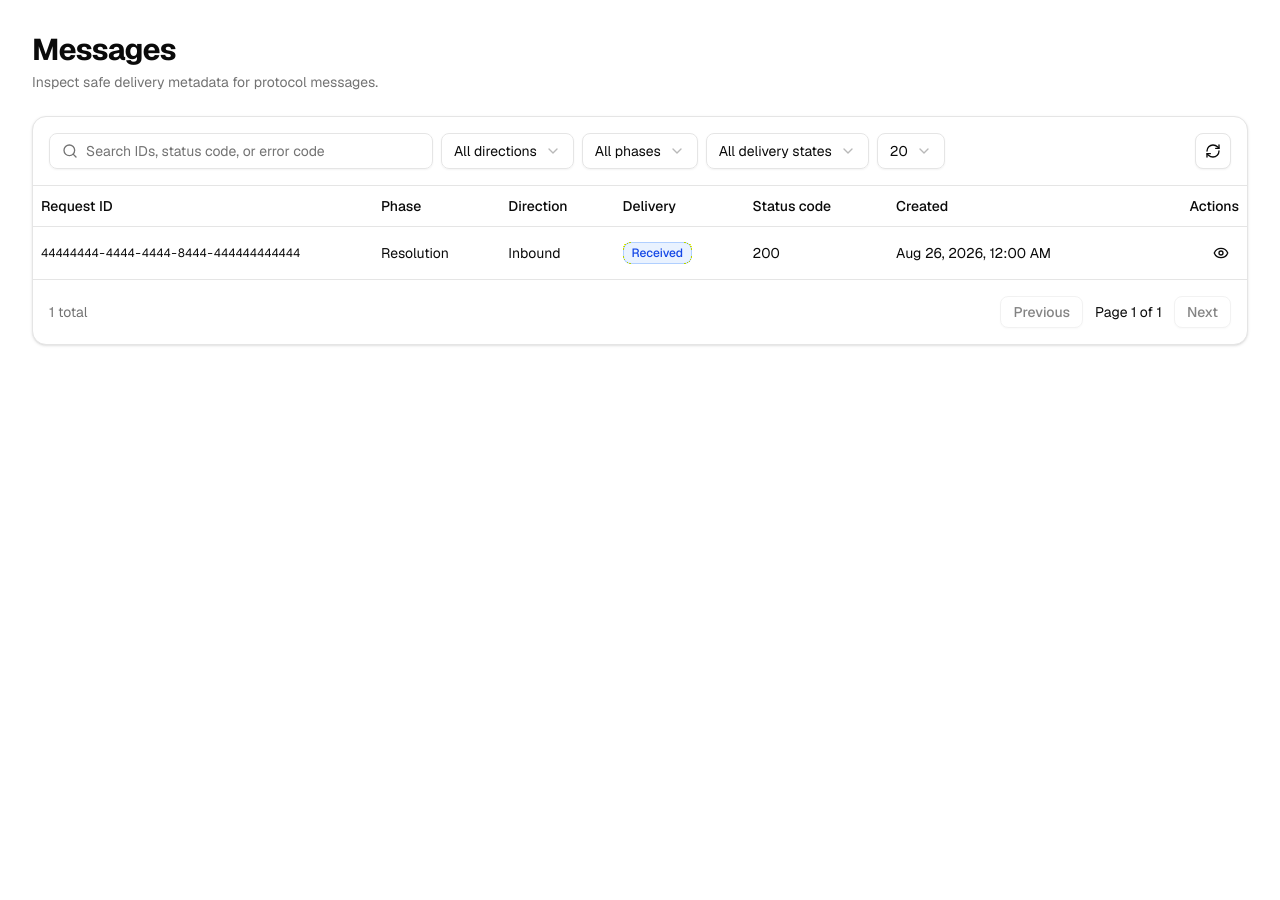
Scenario: renders received inbound messages in list and detail metadata
expect the text "Received" is shown: met, box [622, 242, 692, 264]
Click the button named "View message 22222222-2222-4222-8222-222222222222".
click(1221, 252)  # box [1203, 234, 1239, 270]
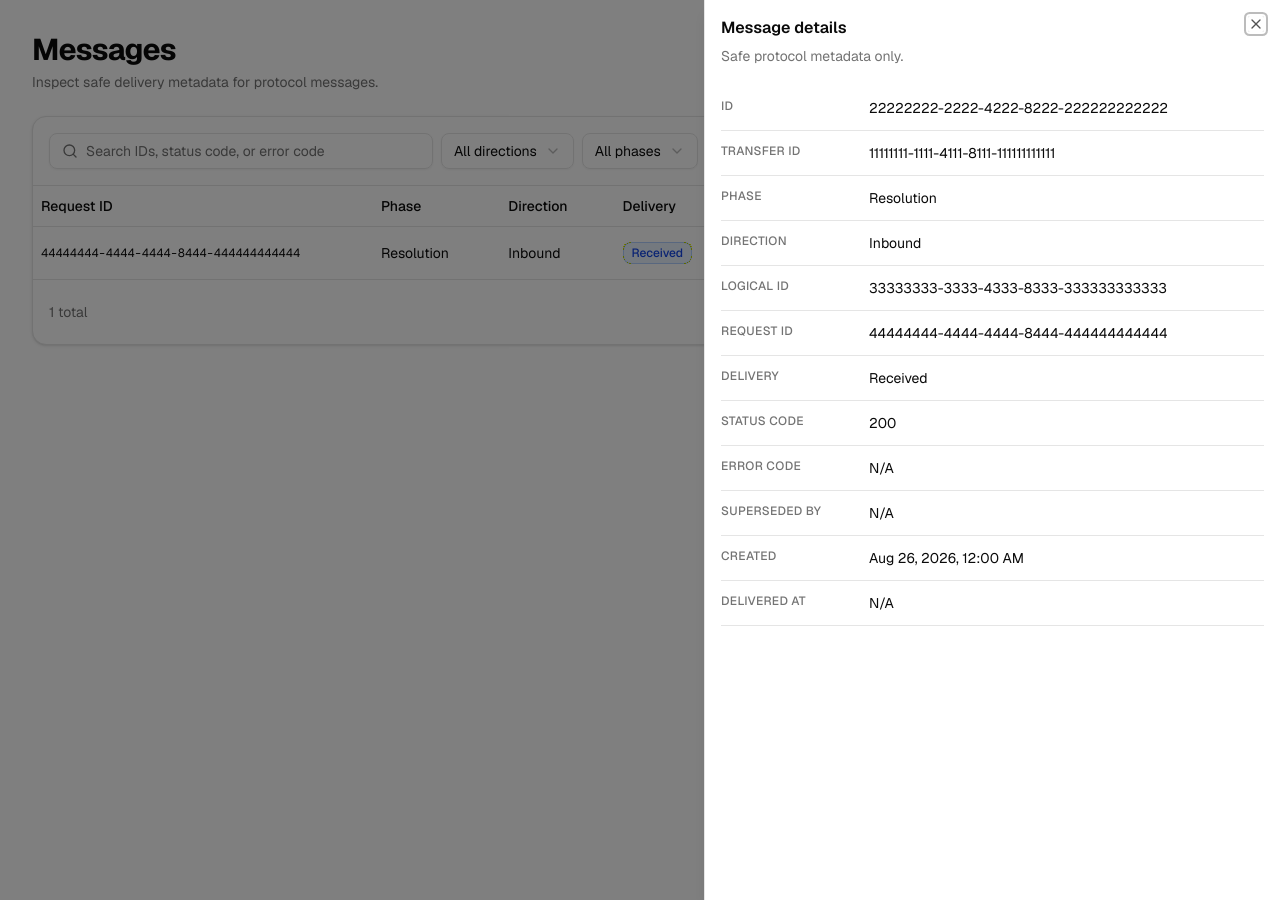
expect the text "Received" is shown: met, box [869, 369, 928, 387]
